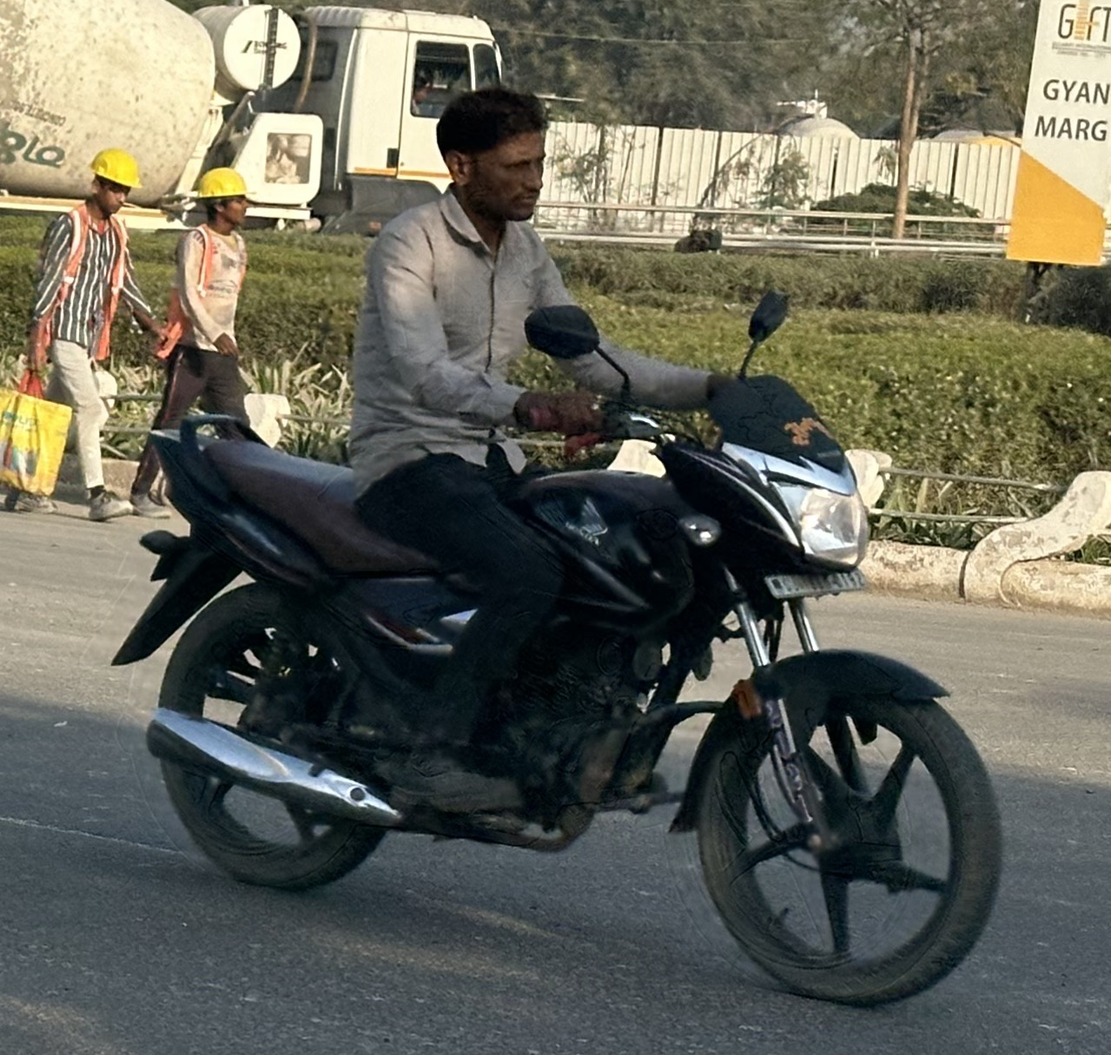BikeWithRider: (96, 72, 1022, 1017)
NoHelmet: (420, 76, 564, 231)
